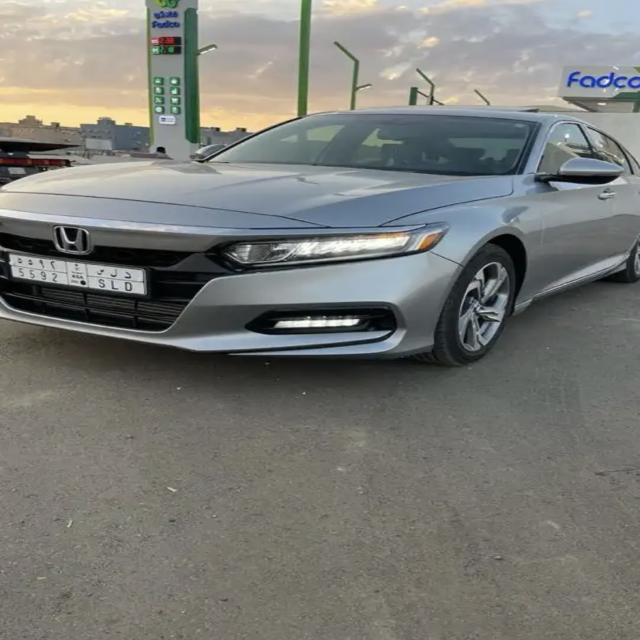license_plate: (8, 252, 148, 296)
